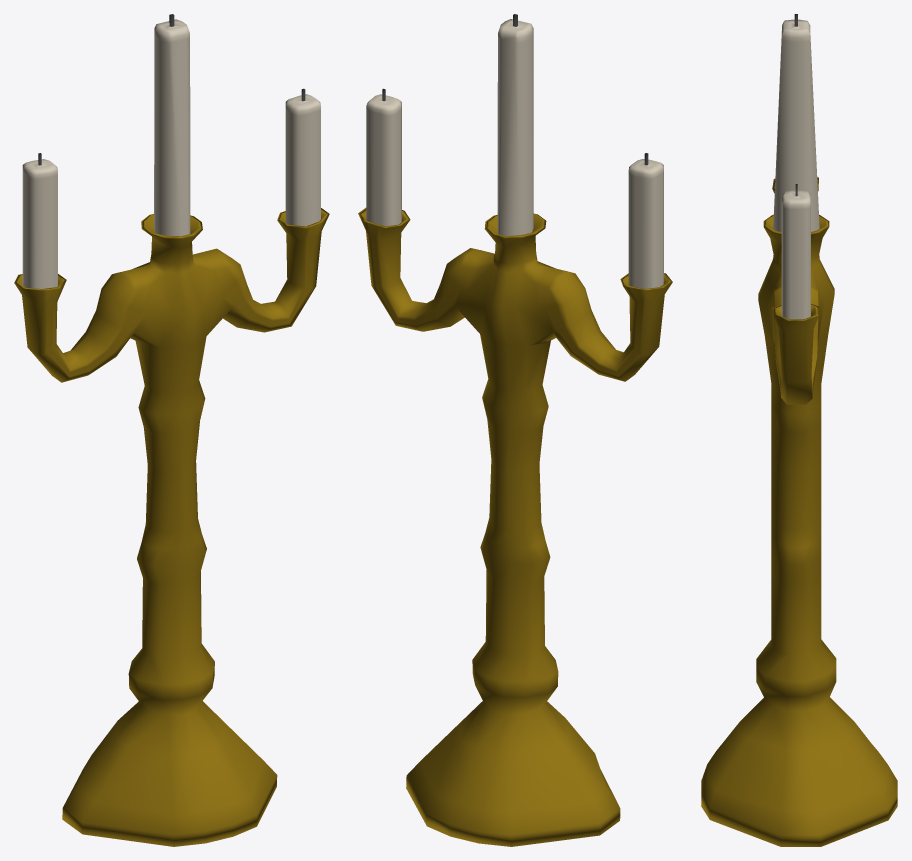
File: candleHolder.fbx
3 views of the same model, side by side, from view 1: azimuth 30°, elevation 25°; view 2: azimuth 150°, elevation 25°; view 3: azimuth 270°, elevation 25° (orthographic).
Visible parts, largest first — view 1: candleHolder1; view 2: candleHolder1; view 3: candleHolder1.
Part boxes in pixels (box(x1,y1,x2,y2)): candleHolder1: box(14, 14, 329, 846); candleHolder1: box(358, 14, 672, 846); candleHolder1: box(701, 14, 897, 846).
Bounding box in the file's own units: 0.1364 × 0.3351 × 0.076.
Materials: 1 (1 with a texture image).
